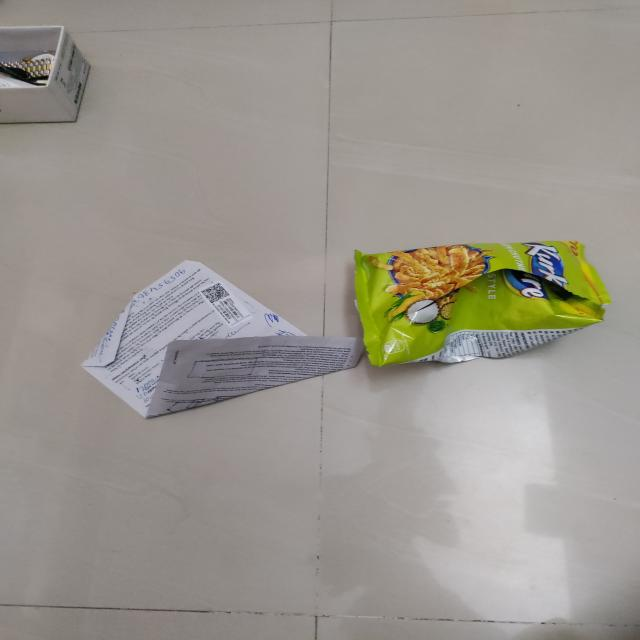paper: (77, 257, 355, 419), (0, 22, 94, 124)
plastic: (348, 240, 610, 364)
